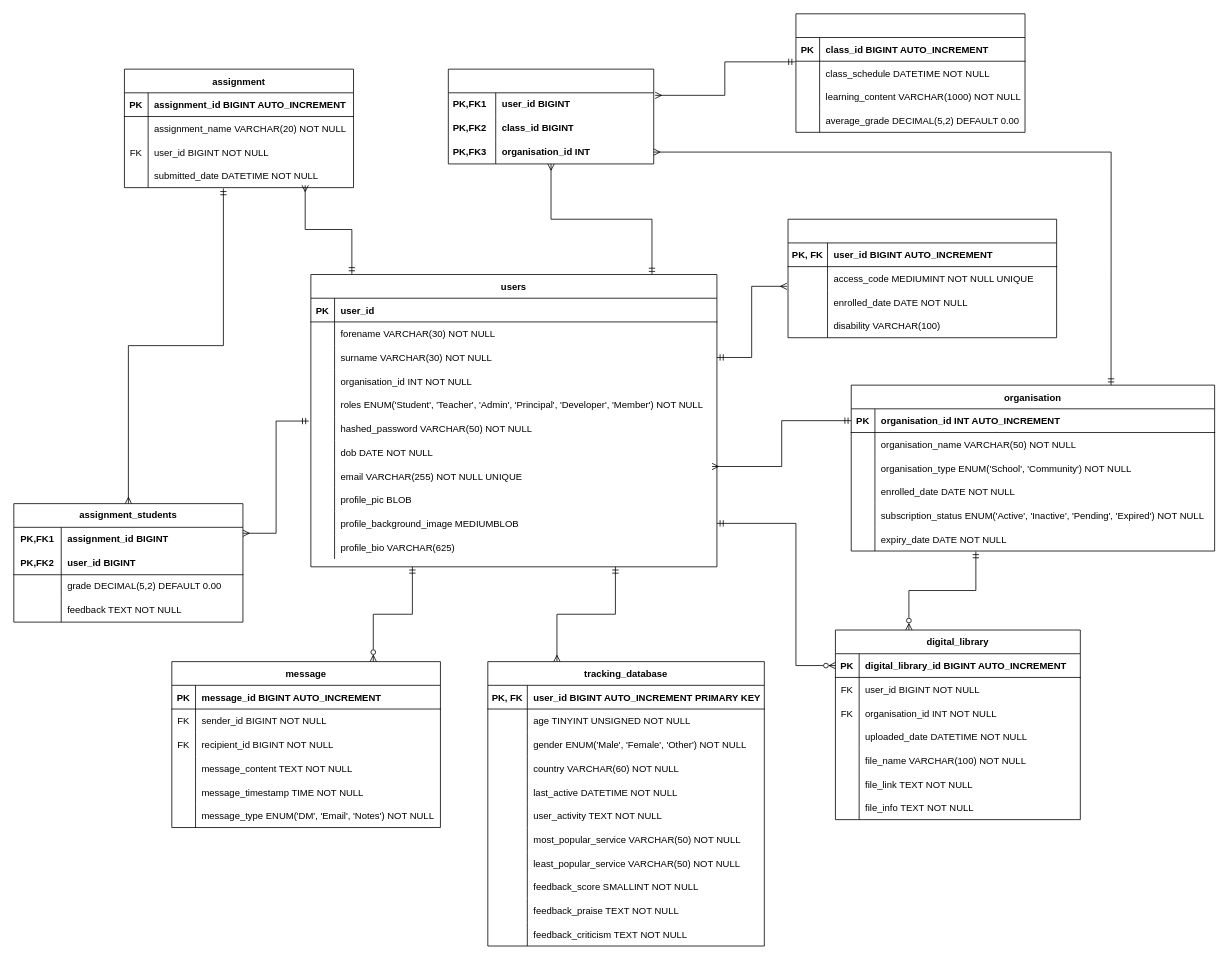
Image size: 1228x960. Some labels were removed from this diagram. Here are the shapes that lost their labels. From the top down, the box of each, then its label:
(795, 13, 1025, 132): classes
(448, 68, 654, 164): users_class_schools
(787, 218, 1057, 338): students
